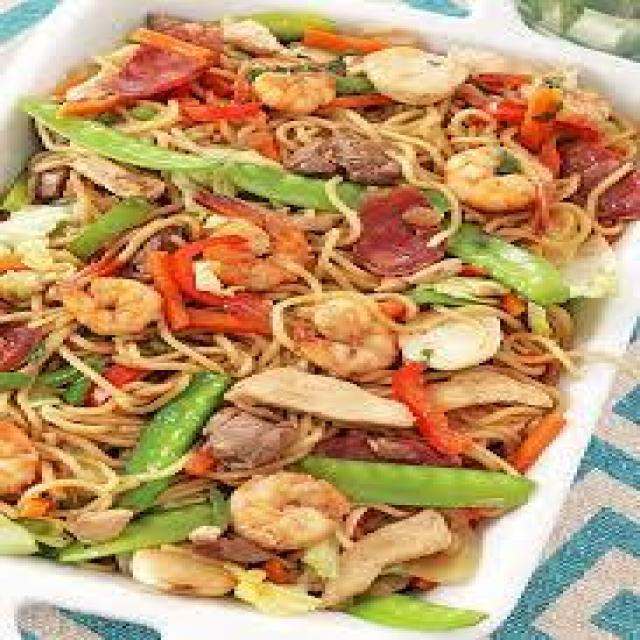pancit bihon: (38, 15, 578, 566)
